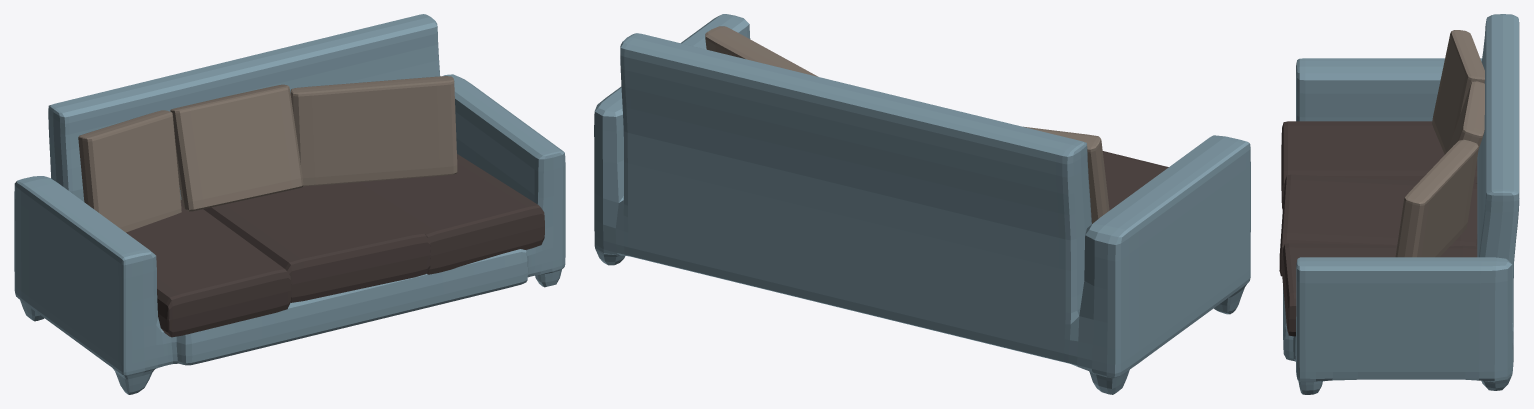
File: Couch.fbx
3 views of the same model, side by side, from view 1: azimuth 30°, elevation 25°; view 2: azimuth 150°, elevation 25°; view 3: azimuth 270°, elevation 25° (orthographic). The views are drawn at different scales.
Parts seen in each view (by area): view 1: sOFA, Cushion.001, Cushion.007, Cushion.006, Cushion.003, Cushion.002, Cushion.005, Cushion.004; view 2: sOFA, Cushion.002, Cushion.007, Cushion.005; view 3: sOFA, Cushion.001, Cushion.002, Cushion.007, Cushion.005, Cushion.003, Cushion.006.
Part boxes in pixels (left/top/right/bottom): sOFA: left=14, top=14, right=565, bottom=394; Cushion.001: left=203, top=182, right=430, bottom=302; Cushion.007: left=290, top=76, right=457, bottom=186; Cushion.006: left=170, top=84, right=303, bottom=211; Cushion.003: left=353, top=154, right=544, bottom=274; Cushion.002: left=126, top=199, right=291, bottom=332; Cushion.005: left=78, top=110, right=181, bottom=232; Cushion.004: left=160, top=284, right=291, bottom=337; sOFA: left=594, top=14, right=1250, bottom=394; Cushion.002: left=1102, top=151, right=1168, bottom=210; Cushion.007: left=705, top=26, right=818, bottom=76; Cushion.005: left=1023, top=126, right=1109, bottom=223; sOFA: left=1283, top=14, right=1519, bottom=394; Cushion.001: left=1279, top=174, right=1477, bottom=276; Cushion.002: left=1281, top=121, right=1477, bottom=195; Cushion.007: left=1395, top=139, right=1478, bottom=257; Cushion.005: left=1432, top=30, right=1484, bottom=154; Cushion.003: left=1282, top=243, right=1477, bottom=336; Cushion.006: left=1447, top=81, right=1484, bottom=151.
Bounding box in the file's own units: 1024 × 453 × 492.
